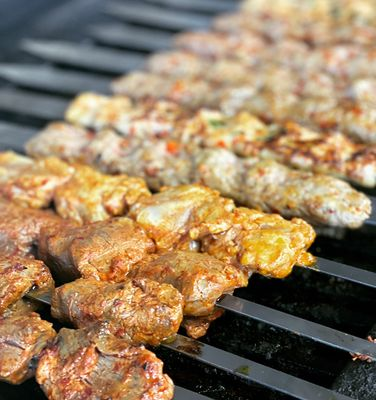sandwich: (8, 7, 374, 396), (18, 3, 376, 241)
